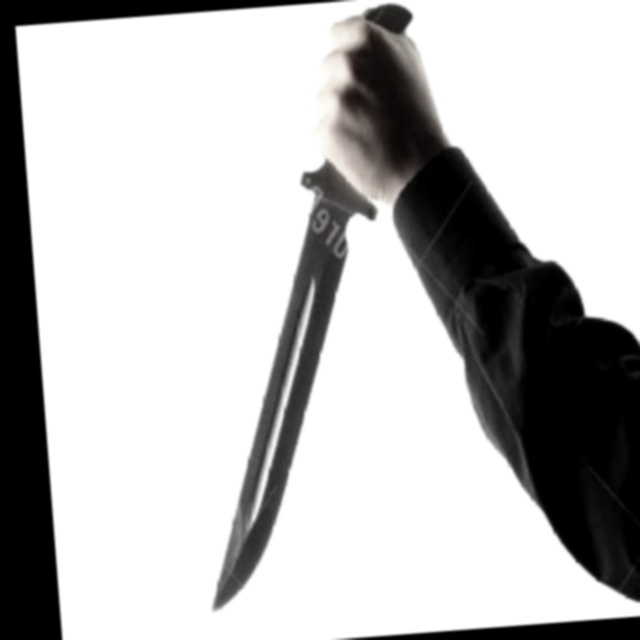Sharp-Object: (167, 2, 454, 615)
